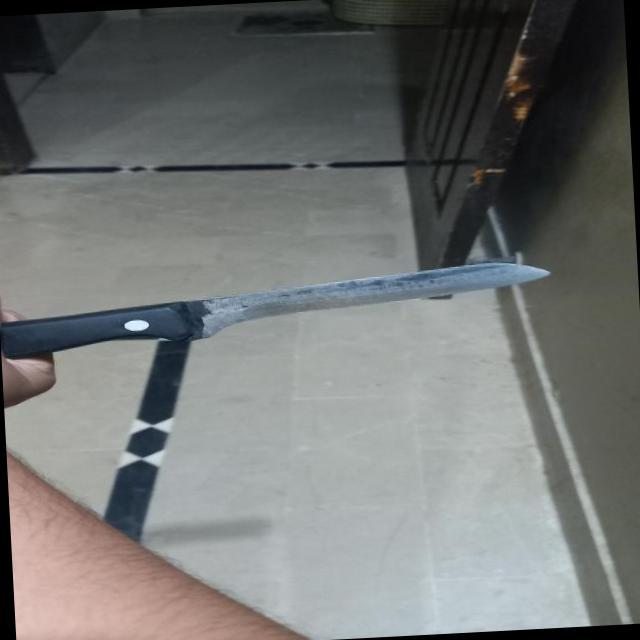Knife: (0, 254, 562, 361)
